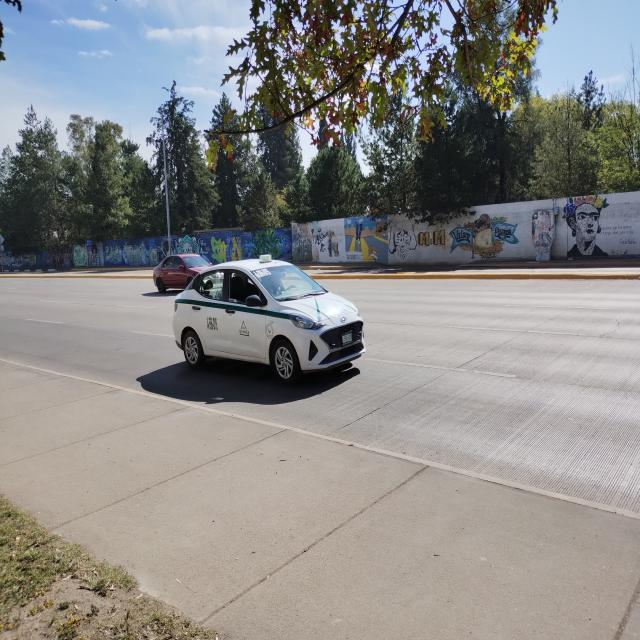Auto: (174, 255, 368, 375), (152, 251, 212, 293)
